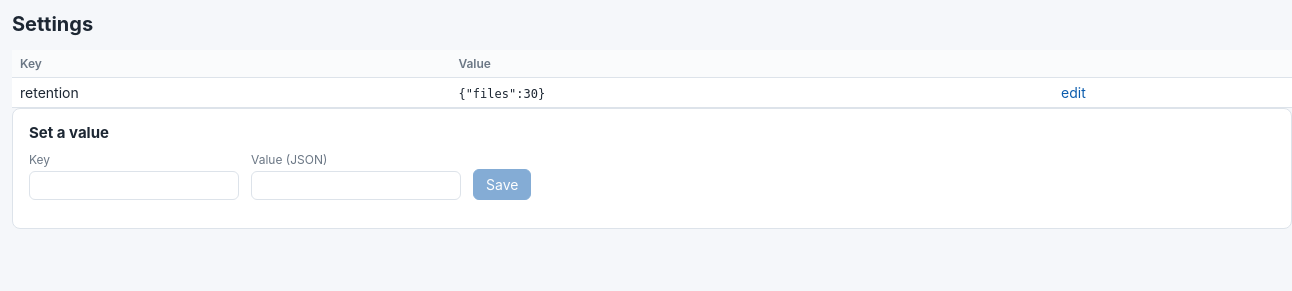
it: settings › shows and edits settings
Expected: the text "{\"files\":30}" is shown, [458, 87, 545, 101]
Click the button "edit": (1073, 92) [1061, 84, 1086, 101]
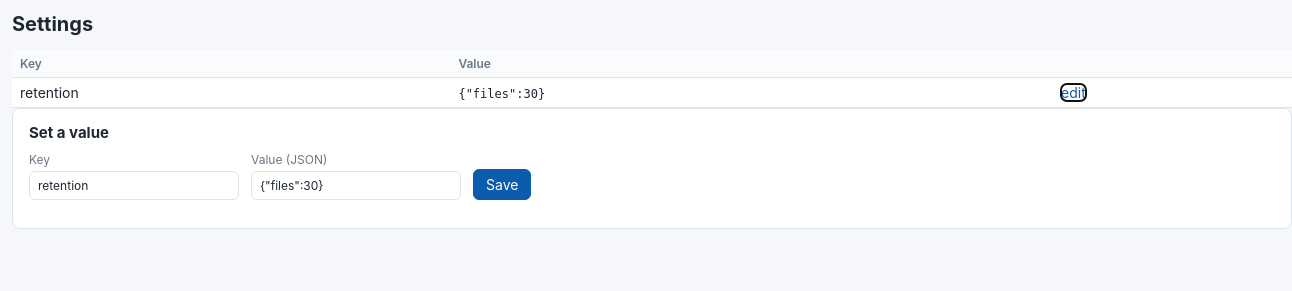
Expected: the field labelled "Key" holds "retention", [29, 171, 239, 200]
Replace the text in the field labelled "Value (JSON)" with "not json": (356, 186) [251, 171, 461, 200]
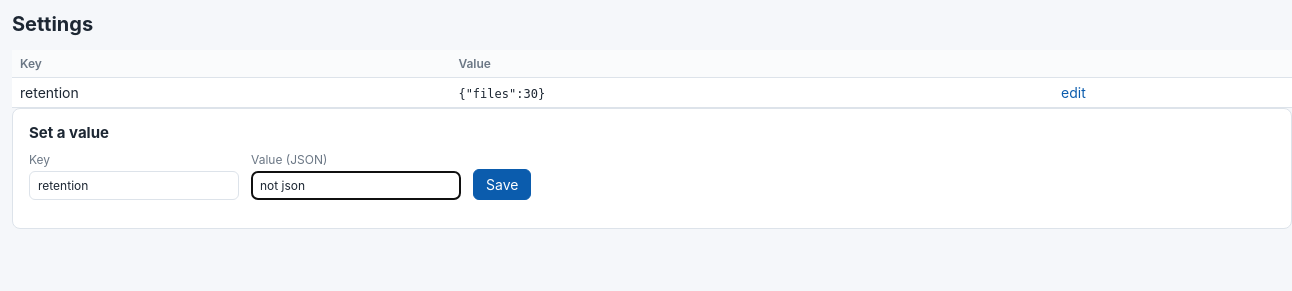
Click the button "Save": (502, 184) [473, 169, 531, 200]
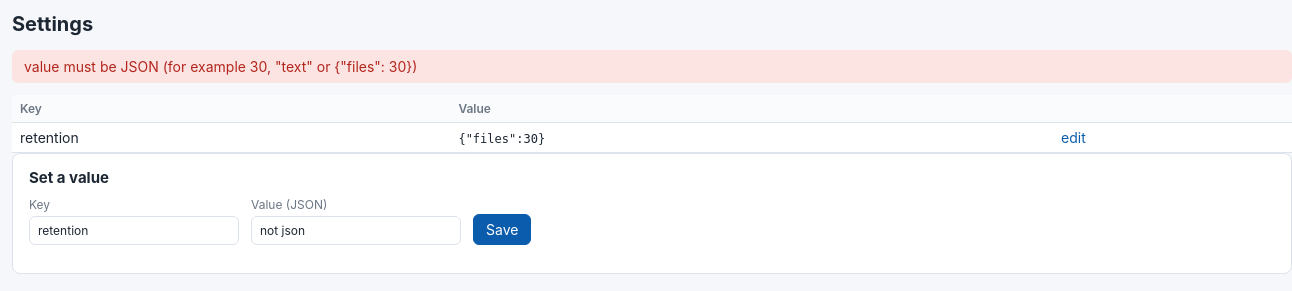
Expected: the text "value must be JSON (for example 30, \"text\" or {\"files\": 30})" is shown, [12, 50, 1291, 83]
Replace the text in the field labelled "Value (JSON)" with "7": (356, 230) [251, 216, 461, 245]
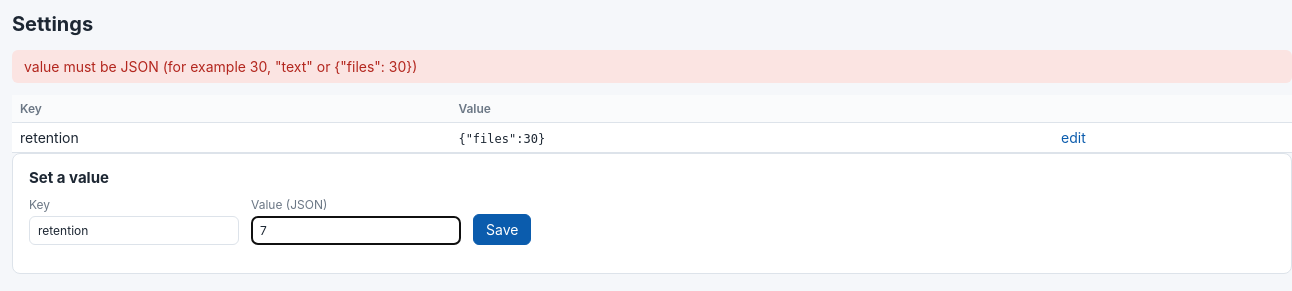
Click the button "Save": (502, 230) [473, 214, 531, 245]
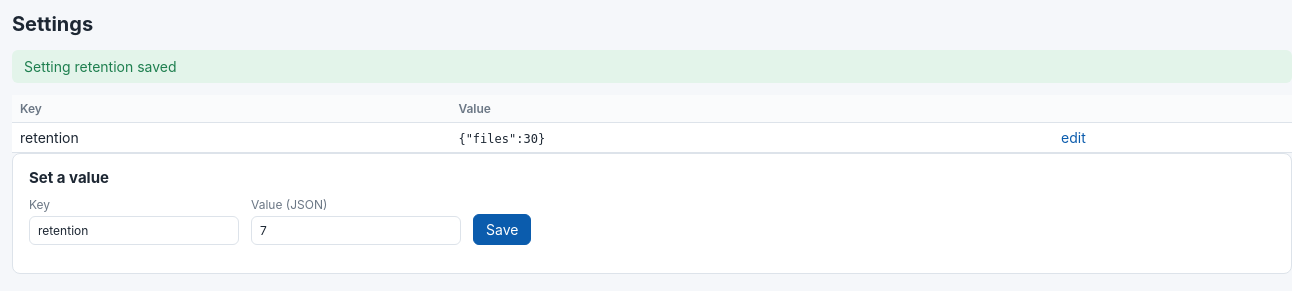
Expected: the text "Setting retention saved" is shown, [12, 50, 1291, 83]
